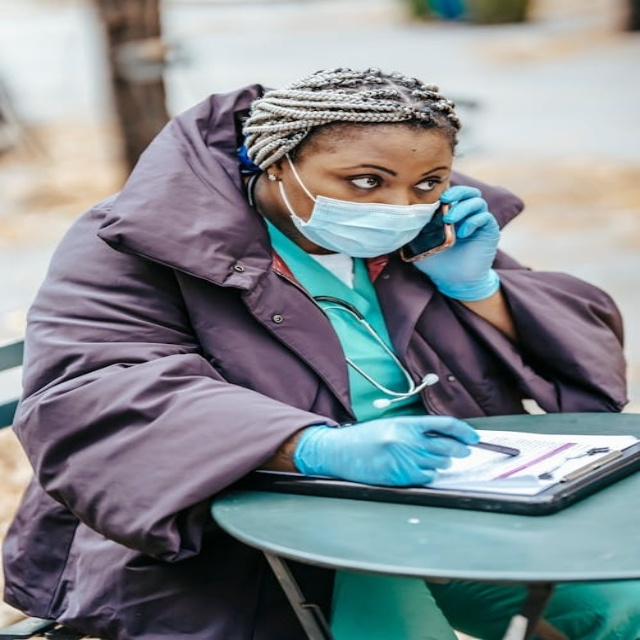Guantes: (294, 415, 485, 485), (409, 185, 501, 301)
Mascara: (280, 158, 444, 258)
Sin_gafas: (323, 160, 447, 195)
